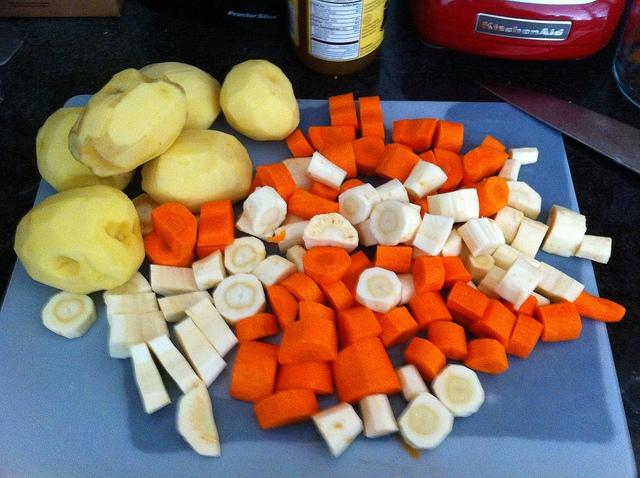carrot: (332, 336, 402, 404), (230, 340, 280, 404), (279, 316, 338, 364), (152, 202, 198, 262), (254, 388, 320, 428), (469, 300, 516, 348), (458, 176, 509, 220), (197, 200, 234, 260), (337, 305, 383, 353), (402, 336, 447, 383), (275, 361, 335, 396), (143, 230, 196, 268), (303, 245, 352, 285), (537, 300, 583, 342), (376, 143, 422, 185), (256, 162, 296, 210), (460, 145, 509, 184), (376, 306, 419, 348), (408, 291, 453, 331), (447, 281, 491, 321), (505, 315, 545, 358), (572, 291, 626, 322), (464, 338, 509, 375), (288, 188, 340, 220), (392, 118, 438, 153), (428, 321, 468, 361), (266, 285, 300, 331), (236, 314, 280, 346), (320, 279, 358, 315), (433, 148, 463, 193), (354, 136, 386, 178), (412, 255, 446, 294), (359, 96, 385, 145), (308, 126, 356, 152), (372, 243, 412, 273), (341, 250, 374, 286), (299, 300, 337, 331), (328, 92, 358, 130), (439, 256, 472, 290), (433, 120, 463, 154), (285, 128, 315, 158)
potato: (14, 186, 146, 296), (68, 68, 188, 178), (141, 129, 253, 213), (36, 105, 136, 190), (220, 59, 301, 141), (138, 62, 222, 130)
